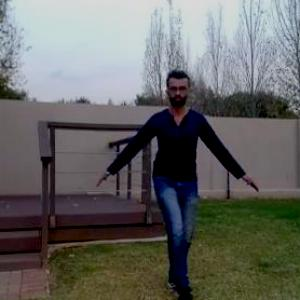land: (110, 68, 242, 295)
